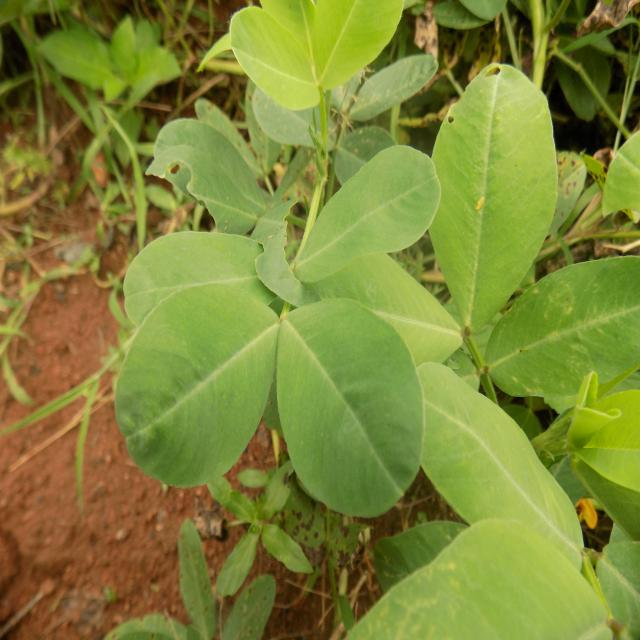Ground nut_healthy: (399, 348, 585, 568), (428, 62, 556, 338), (115, 282, 278, 479), (482, 260, 640, 401), (292, 141, 440, 287), (235, 2, 324, 121), (215, 530, 261, 594)
